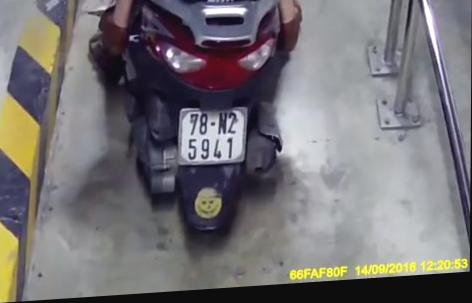License_Plate: (169, 98, 254, 172)
